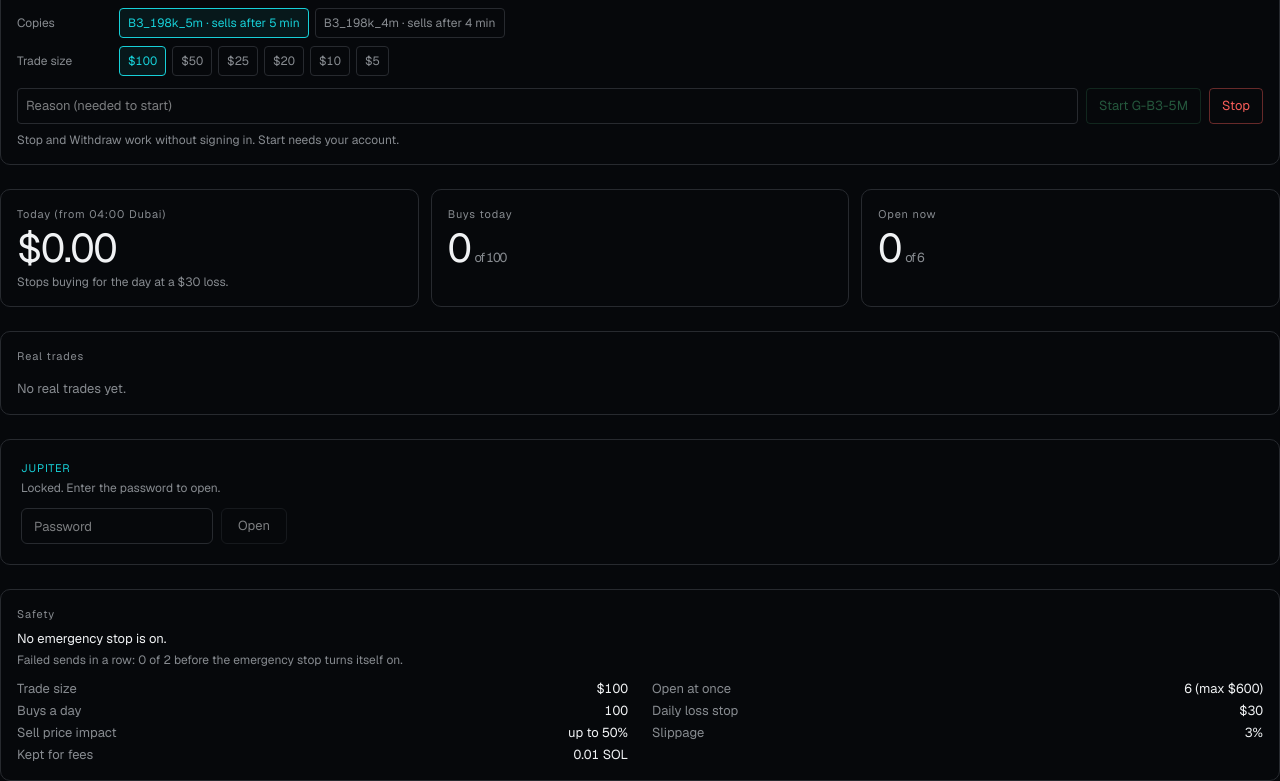
RealWalletPage JUPITER › opens USER 1-7 with the JUPITER password
(page scrolled)
Type "pw" into the password field named "JUPITER password".
click(117, 526); type("pw")  # box [21,508,213,544]
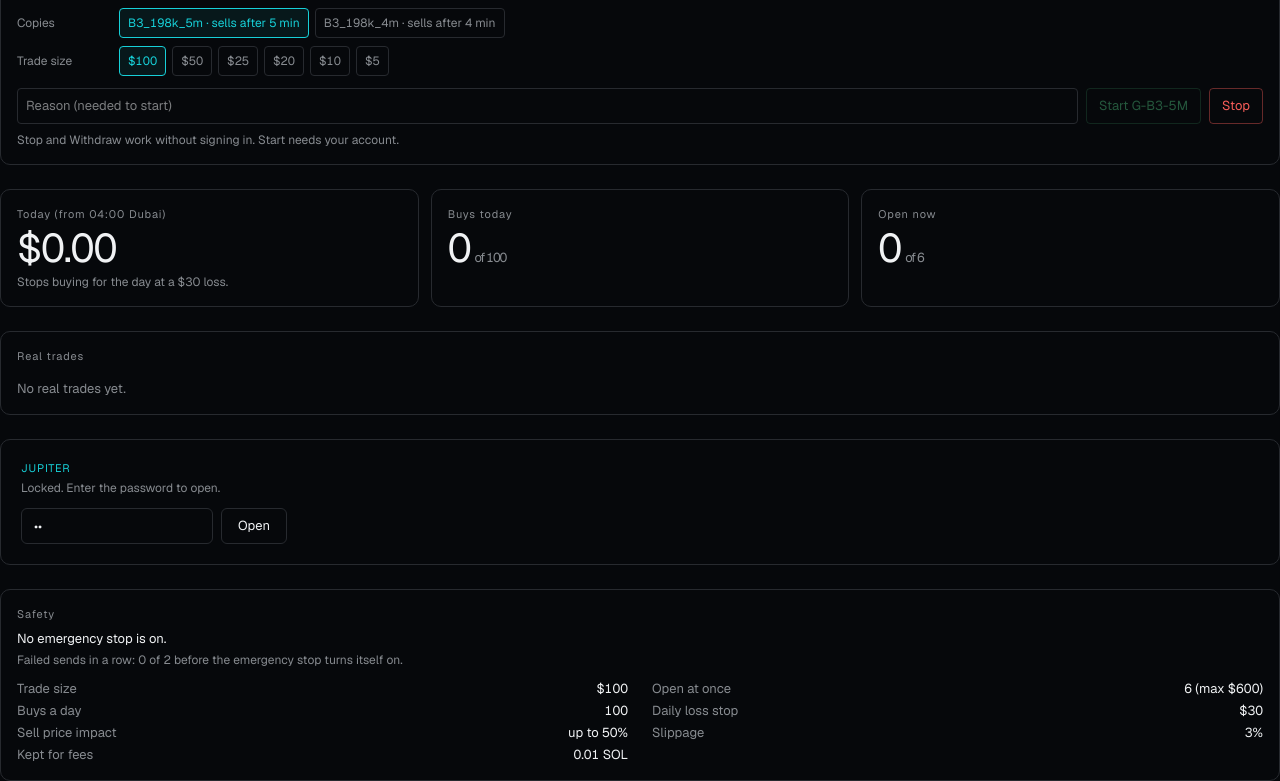
Click the button "Open".
click(254, 526)  # box [221,508,287,544]
(page scrolled)
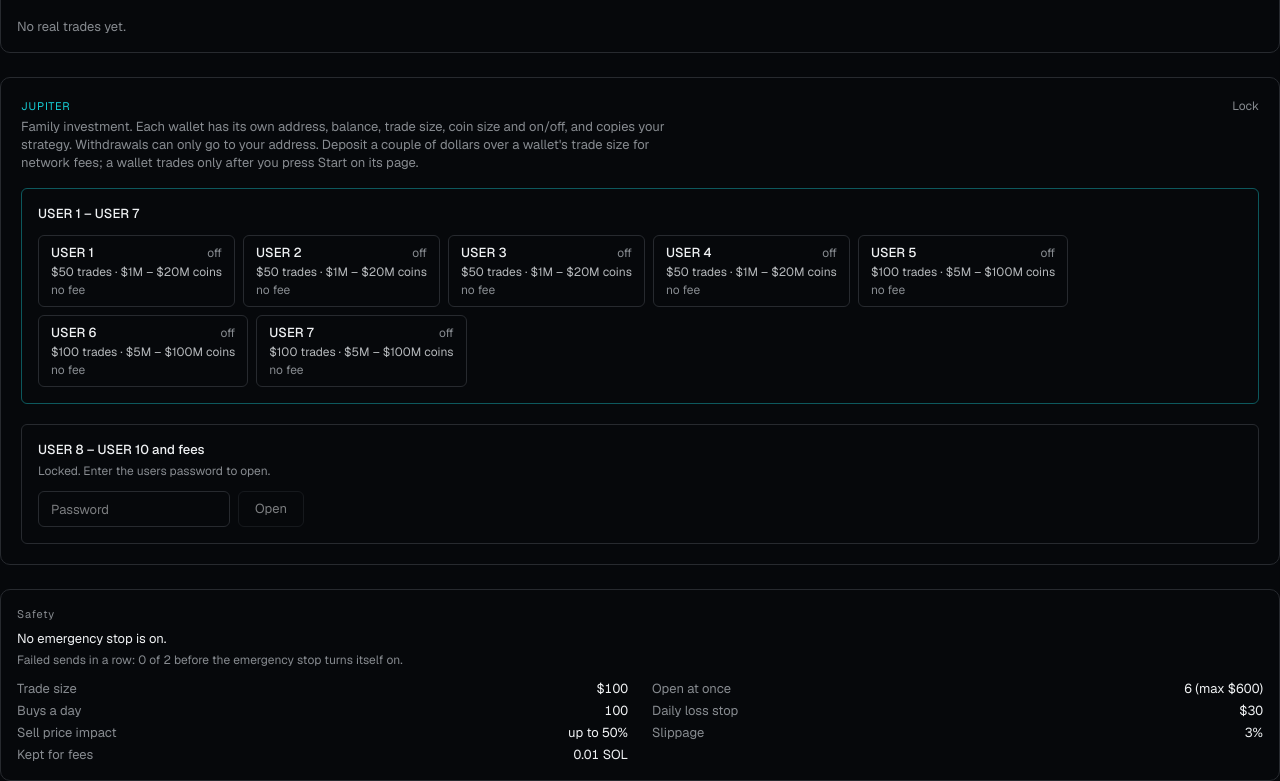
Expected: the link with test id "wallet-USER1" shows "$50 trades · $1M – $20M coins", [38,235,235,307]
Expected: the link with test id "wallet-USER1" shows "no fee", [38,235,235,307]
Expected: the link with test id "wallet-USER7" is shown, [256,315,467,387]
